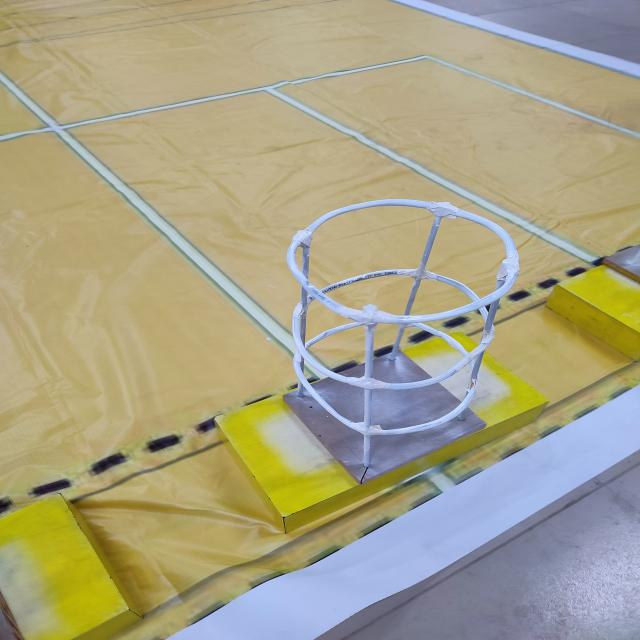silo: (256, 176, 540, 482)
